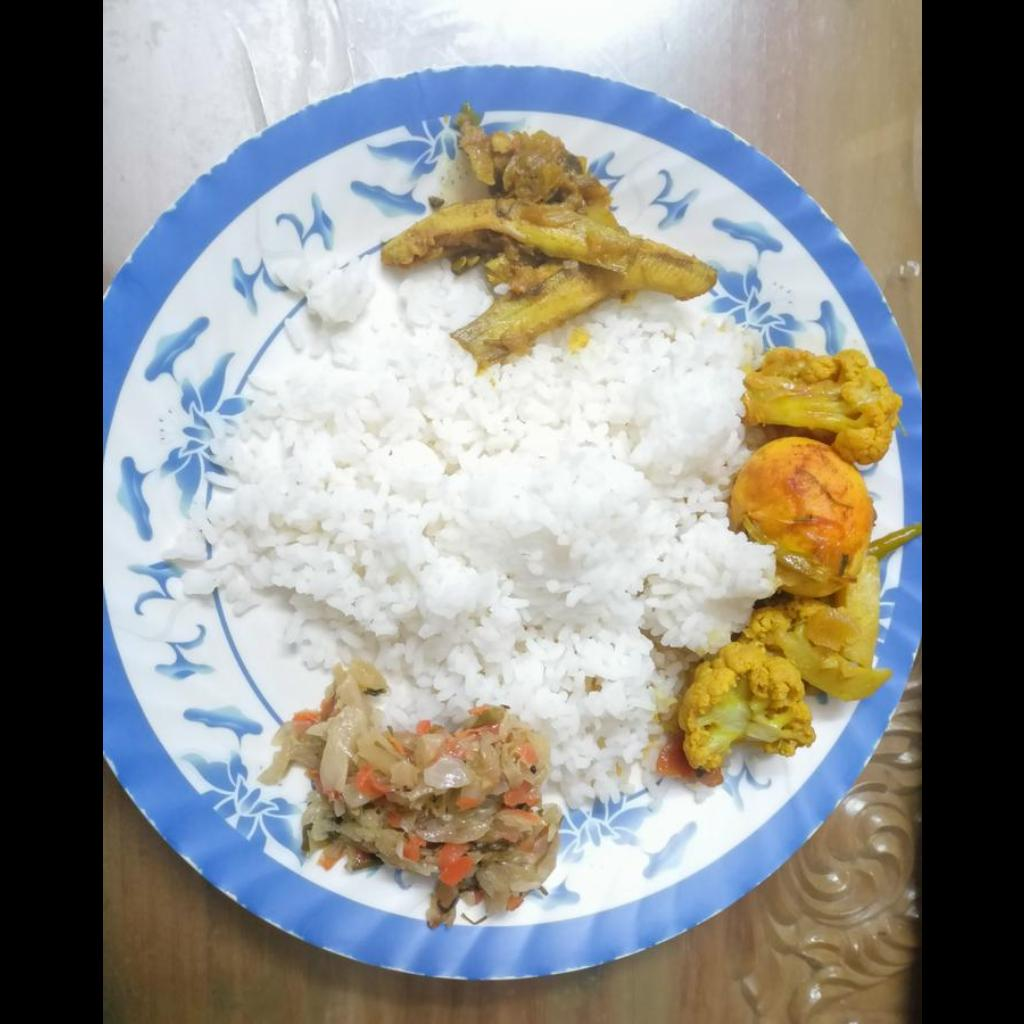cabbage: (254, 657, 563, 920)
cauliflower: (678, 546, 888, 768), (744, 349, 898, 462)
egg-poached: (728, 436, 870, 594)
fish: (381, 130, 710, 363)
rice: (183, 255, 768, 800)
